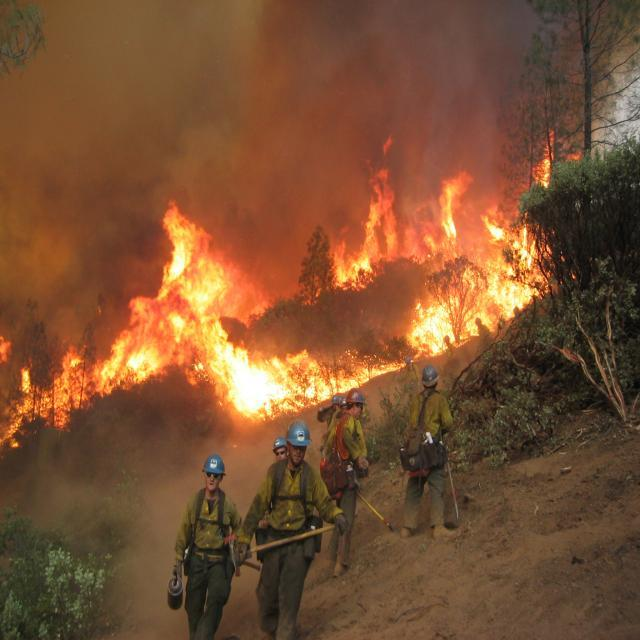Fire: (0, 136, 560, 439)
Smoke: (0, 0, 554, 134)
